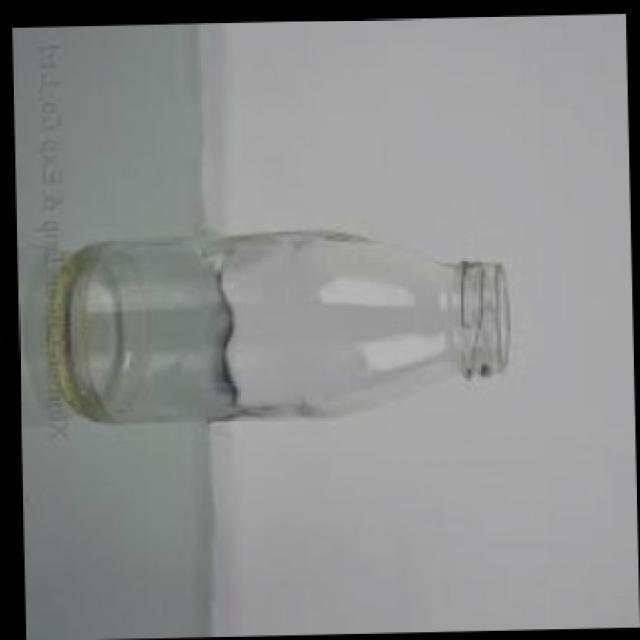Glass: (48, 230, 512, 423)
